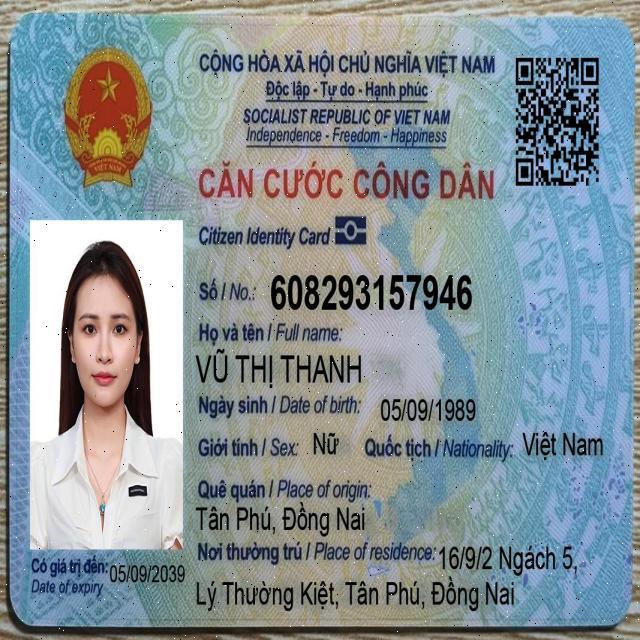current_place: (194, 572, 517, 615), (437, 540, 580, 579)
dob: (378, 393, 478, 426)
expire_date: (109, 561, 187, 586)
gender: (309, 426, 342, 459)
id: (268, 269, 474, 316)
name: (193, 345, 365, 392)
nationality: (520, 427, 606, 464)
origin_place: (193, 498, 367, 539)
qr: (512, 50, 608, 193)
